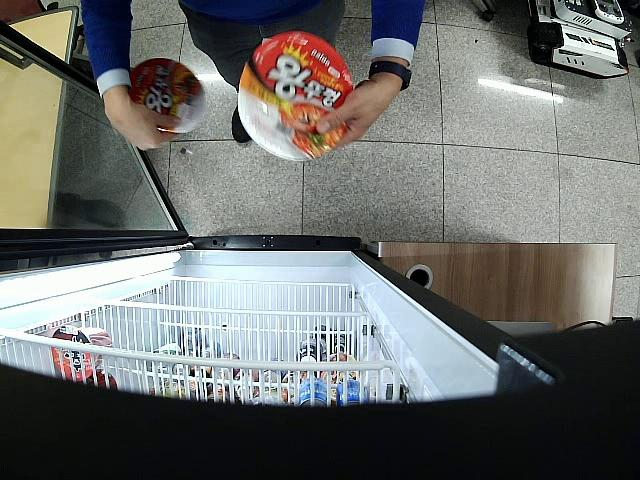00_hand: (315, 79, 401, 150), (103, 99, 181, 150)
10_wangTtukkeong: (238, 33, 354, 161), (129, 58, 206, 134)
